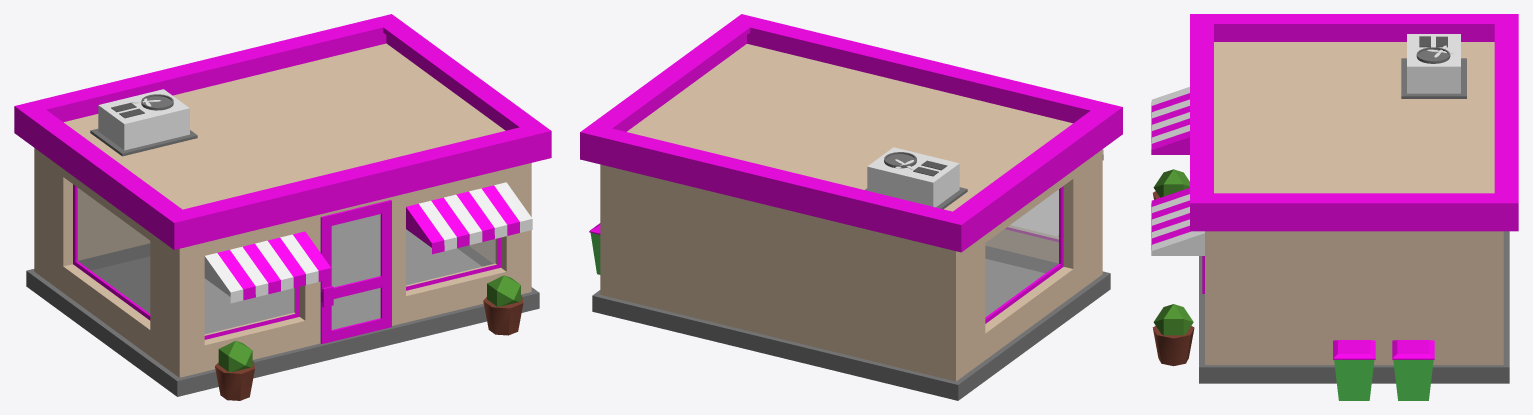
The model's file is small_store4.glb.
3 views of the same model, side by side, from view 1: azimuth 30°, elevation 25°; view 2: azimuth 150°, elevation 25°; view 3: azimuth 270°, elevation 25° (orthographic). The views are drawn at different scales.
Parts seen in each view (by area): view 1: 3DSMeshMatrix.018, 3DSMeshMatrix.031, 3DSMeshMatrix.029, 3DSMeshMatrix.026, 3DSMeshMatrix.023, 3DSMeshMatrix.005, 3DSMeshMatrix.008, 3DSMeshMatrix.025, 3DSMeshMatrix.024, 3DSMeshMatrix.030, 3DSMeshMatrix.006, 3DSMeshMatrix.013 (+12 smaller); view 2: 3DSMeshMatrix.018, 3DSMeshMatrix.029; view 3: 3DSMeshMatrix.018, 3DSMeshMatrix.029, 3DSMeshMatrix.017, 3DSMeshMatrix.021, 3DSMeshMatrix.023, 3DSMeshMatrix.015, 3DSMeshMatrix.024, 3DSMeshMatrix.022, 3DSMeshMatrix.016, 3DSMeshMatrix.030, 3DSMeshMatrix.025, 3DSMeshMatrix.006 (+1 smaller).
Boxes of the visible parts, bbox=[...] form: 3DSMeshMatrix.018: bbox=[14, 14, 551, 396]; 3DSMeshMatrix.031: bbox=[320, 200, 391, 343]; 3DSMeshMatrix.029: bbox=[98, 89, 189, 150]; 3DSMeshMatrix.026: bbox=[215, 361, 254, 400]; 3DSMeshMatrix.023: bbox=[483, 295, 523, 335]; 3DSMeshMatrix.005: bbox=[204, 253, 243, 303]; 3DSMeshMatrix.008: bbox=[406, 203, 444, 254]; 3DSMeshMatrix.025: bbox=[218, 340, 252, 371]; 3DSMeshMatrix.024: bbox=[487, 275, 520, 306]; 3DSMeshMatrix.030: bbox=[90, 128, 197, 156]; 3DSMeshMatrix.006: bbox=[293, 231, 331, 281]; 3DSMeshMatrix.013: bbox=[469, 188, 507, 238]; 3DSMeshMatrix.018: bbox=[580, 14, 1122, 400]; 3DSMeshMatrix.029: bbox=[867, 147, 959, 207]; 3DSMeshMatrix.018: bbox=[1190, 14, 1518, 383]; 3DSMeshMatrix.029: bbox=[1407, 34, 1460, 93]; 3DSMeshMatrix.017: bbox=[1393, 360, 1433, 400]; 3DSMeshMatrix.021: bbox=[1334, 360, 1374, 400]; 3DSMeshMatrix.023: bbox=[1152, 326, 1194, 366]; 3DSMeshMatrix.015: bbox=[1151, 231, 1204, 255]; 3DSMeshMatrix.024: bbox=[1153, 304, 1193, 335]; 3DSMeshMatrix.022: bbox=[1333, 340, 1375, 359]; 3DSMeshMatrix.016: bbox=[1392, 340, 1434, 359]; 3DSMeshMatrix.030: bbox=[1401, 58, 1466, 98]; 3DSMeshMatrix.025: bbox=[1153, 169, 1189, 197]; 3DSMeshMatrix.006: bbox=[1151, 131, 1189, 154].
Size of the model in its own units: 81.32 by 35.99 by 61.46.
